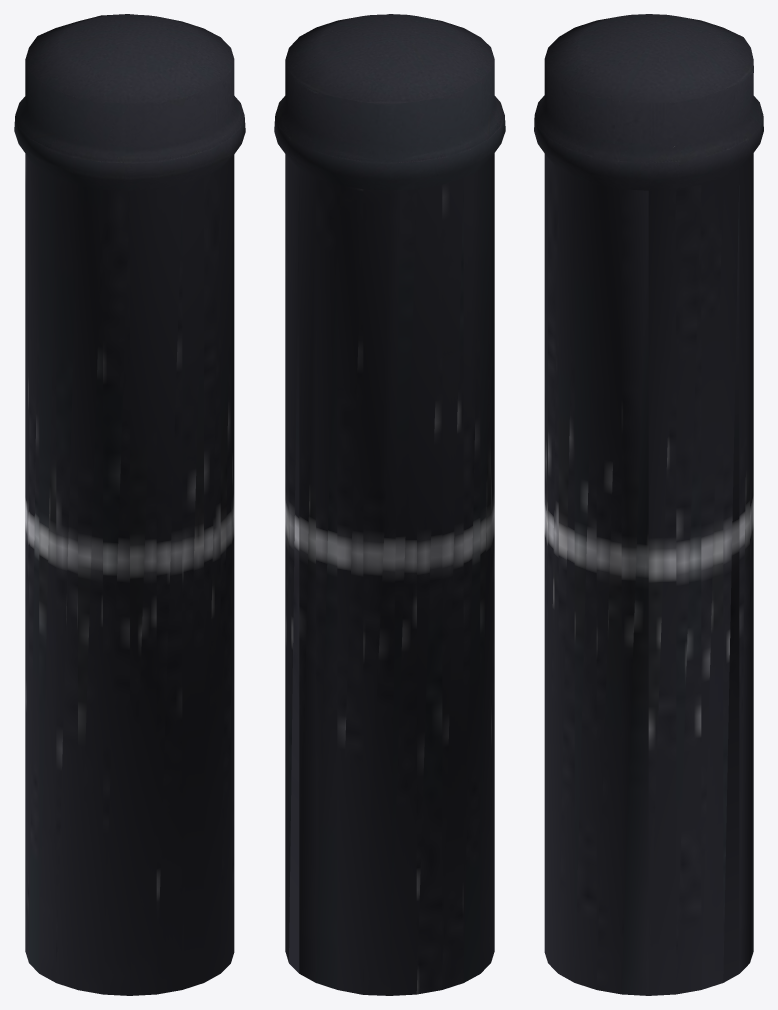
The model's file is bollard.glb.
3 views of the same model, side by side, from view 1: azimuth 30°, elevation 25°; view 2: azimuth 150°, elevation 25°; view 3: azimuth 270°, elevation 25° (orthographic).
Visible parts, largest first — view 1: bollard_lod0; view 2: bollard_lod0; view 3: bollard_lod0.
Part boxes in pixels (x1,y1,x2,y2): bollard_lod0: (14, 14, 245, 995); bollard_lod0: (274, 14, 505, 995); bollard_lod0: (534, 14, 763, 995).
Size of what is drawn, in the model's own units: 0.2039 by 0.9 by 0.2039.
Materials: 1 (1 with a texture image).
